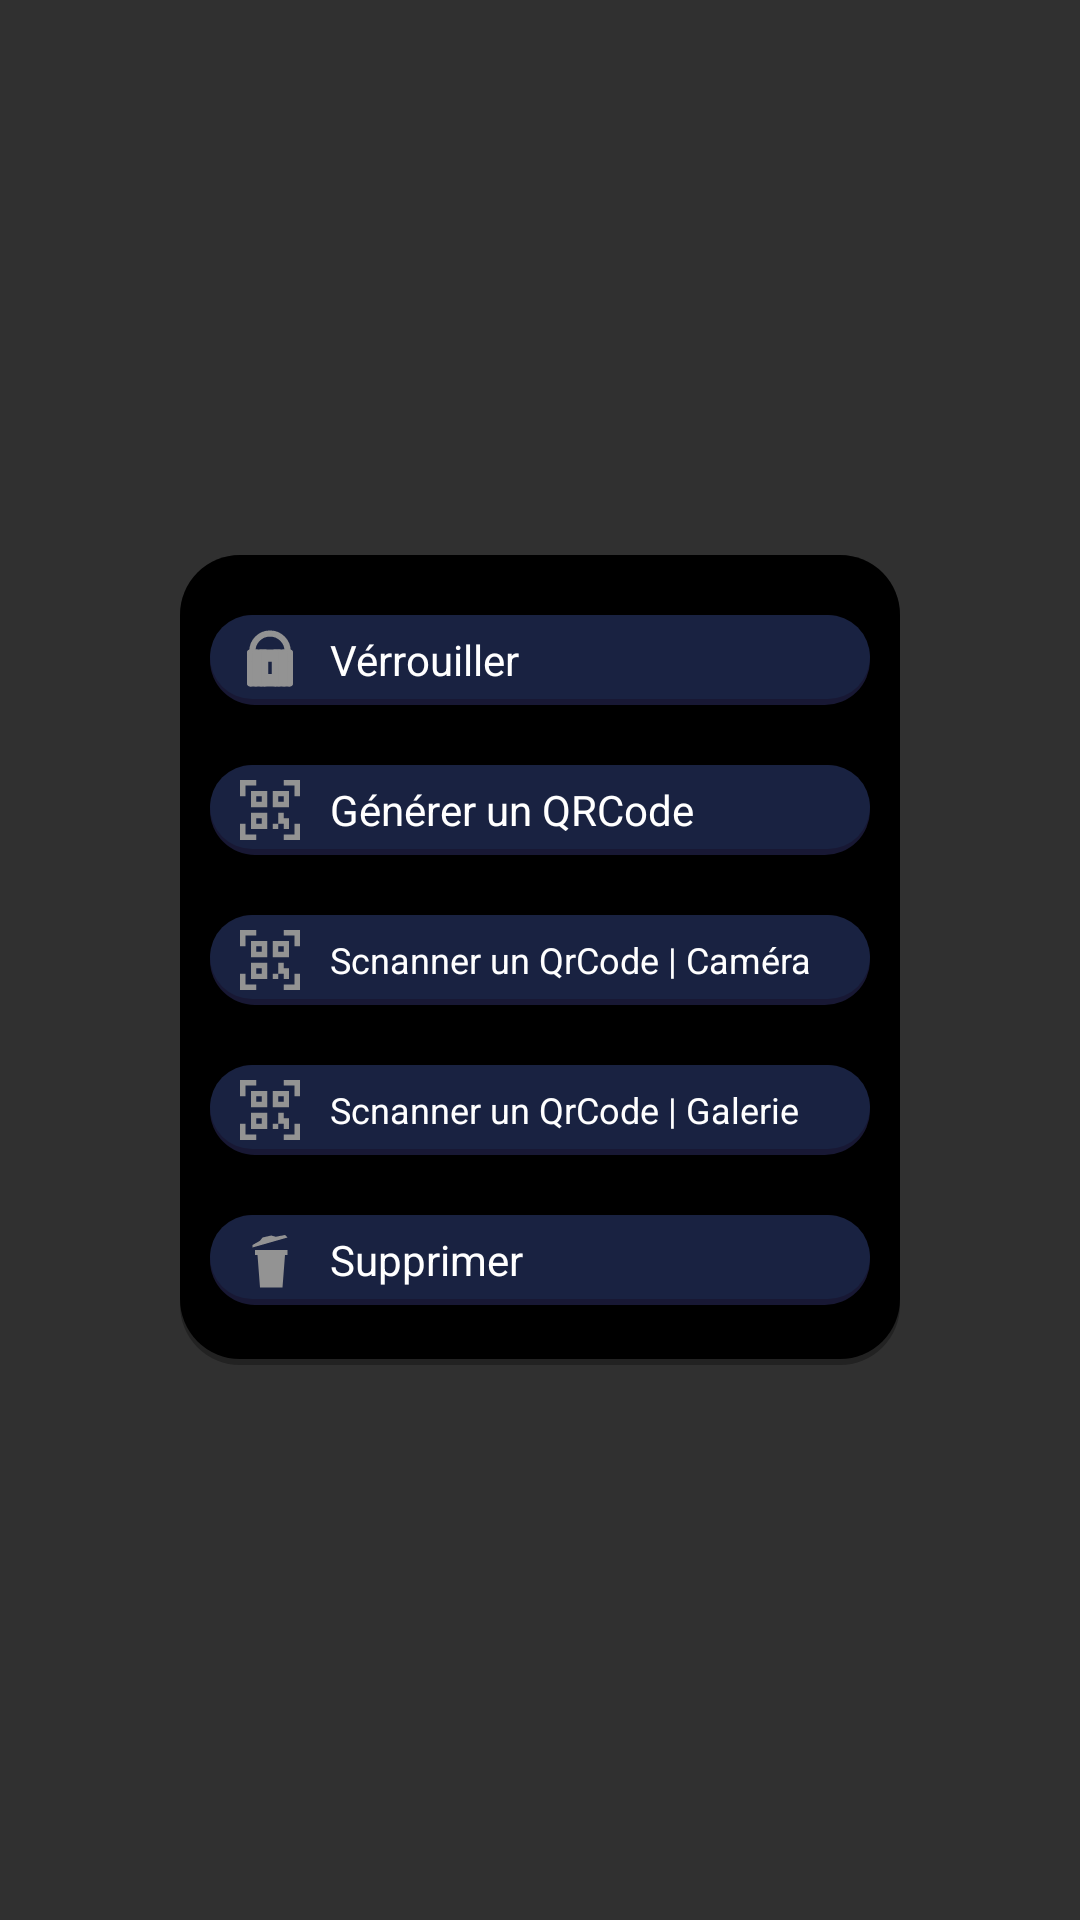

Icons on this 1080x1920 Android screen, each with the point to tap as (x=x, y=y):
dustbon: (x=270, y=1261)
password: (x=270, y=658)
